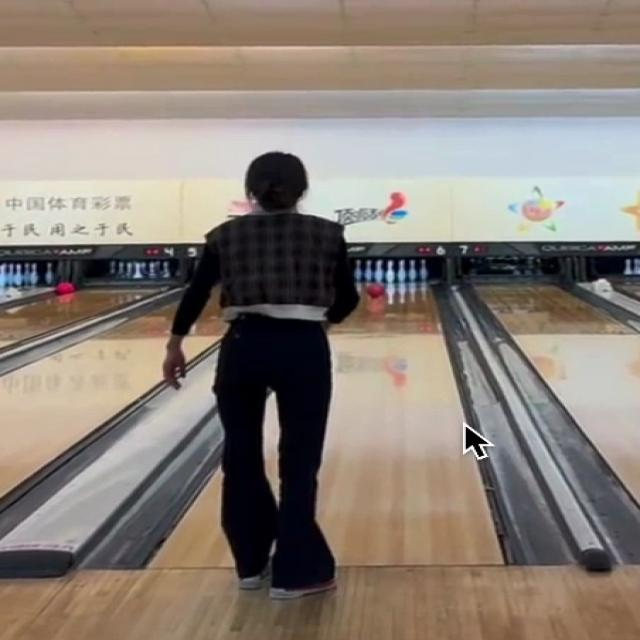alley: (317, 282, 500, 565), (152, 471, 231, 568)
balls: (365, 283, 384, 299)
bottle: (354, 258, 432, 284)
